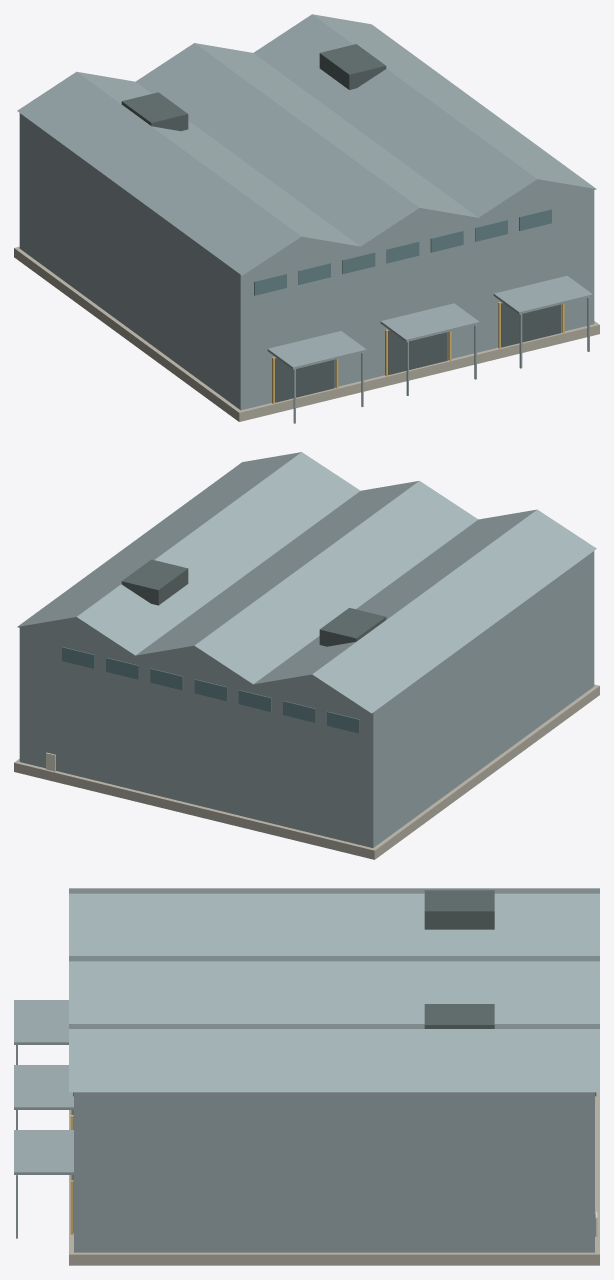
3 renders of one model, top to bottom at view 1: azimuth 30°, elevation 25°; view 2: azimuth 150°, elevation 25°; view 3: azimuth 270°, elevation 25°, orthographic. The views are drawn at different scales.
Size of the model in its own units: 49 by 22.5 by 58.5.
